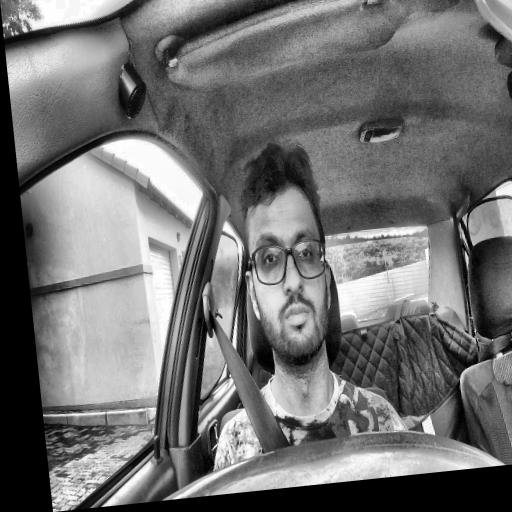awake: (230, 137, 340, 375)
